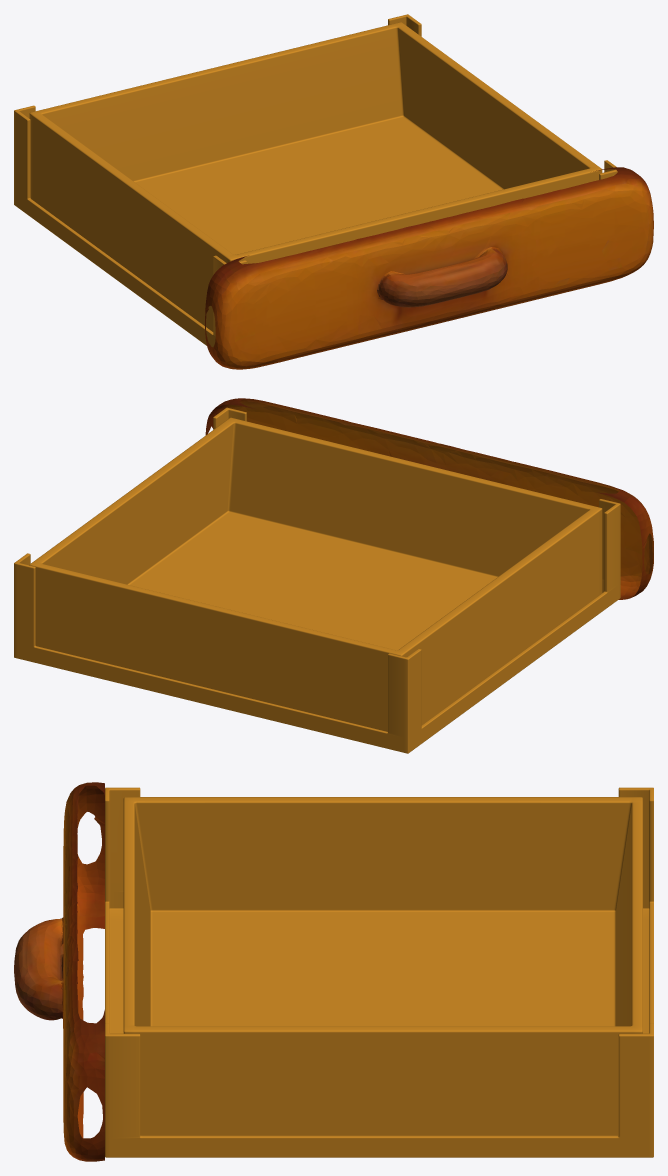
The model's file is drawer.glb.
3 views of the same model, one above another, from view 1: azimuth 30°, elevation 25°; view 2: azimuth 150°, elevation 25°; view 3: azimuth 270°, elevation 25° (orthographic). The views are drawn at different scales.
Parts seen in each view (by area): view 1: prefab_drawer_body_1, source_front_cap_0; view 2: prefab_drawer_body_1, source_front_cap_0; view 3: prefab_drawer_body_1, source_front_cap_0.
Part boxes in pixels (bbox=[...]): prefab_drawer_body_1: bbox=[14, 14, 617, 347]; source_front_cap_0: bbox=[205, 167, 653, 369]; prefab_drawer_body_1: bbox=[14, 407, 620, 753]; source_front_cap_0: bbox=[205, 398, 653, 599]; prefab_drawer_body_1: bbox=[105, 787, 653, 1157]; source_front_cap_0: bbox=[14, 782, 104, 1161].
Bounding box in the file's own units: 0.3164 × 0.0726 × 0.3103.
2 materials, 1 textured.
